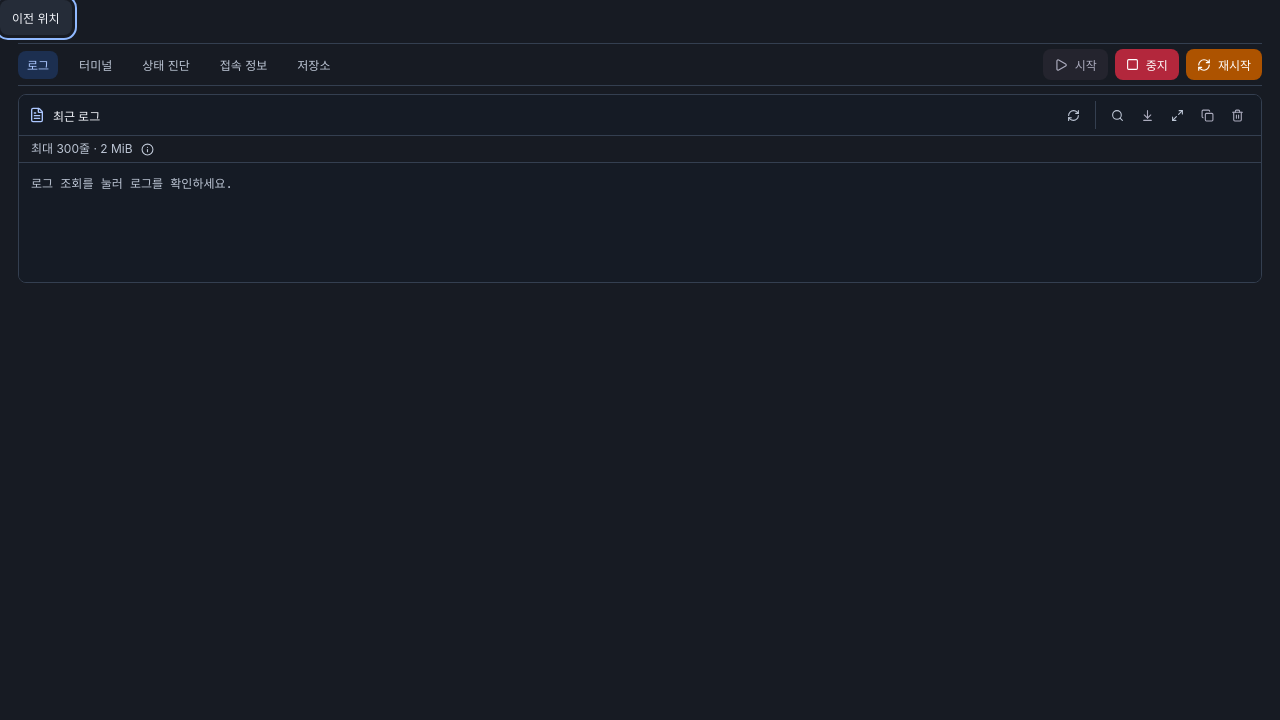
Scenario: confirmation trigger focus › returns to 재시작 after a click that does not focus the button
Step 1. Click the button "재시작" → (1224, 64), box [1186,49,1262,80]
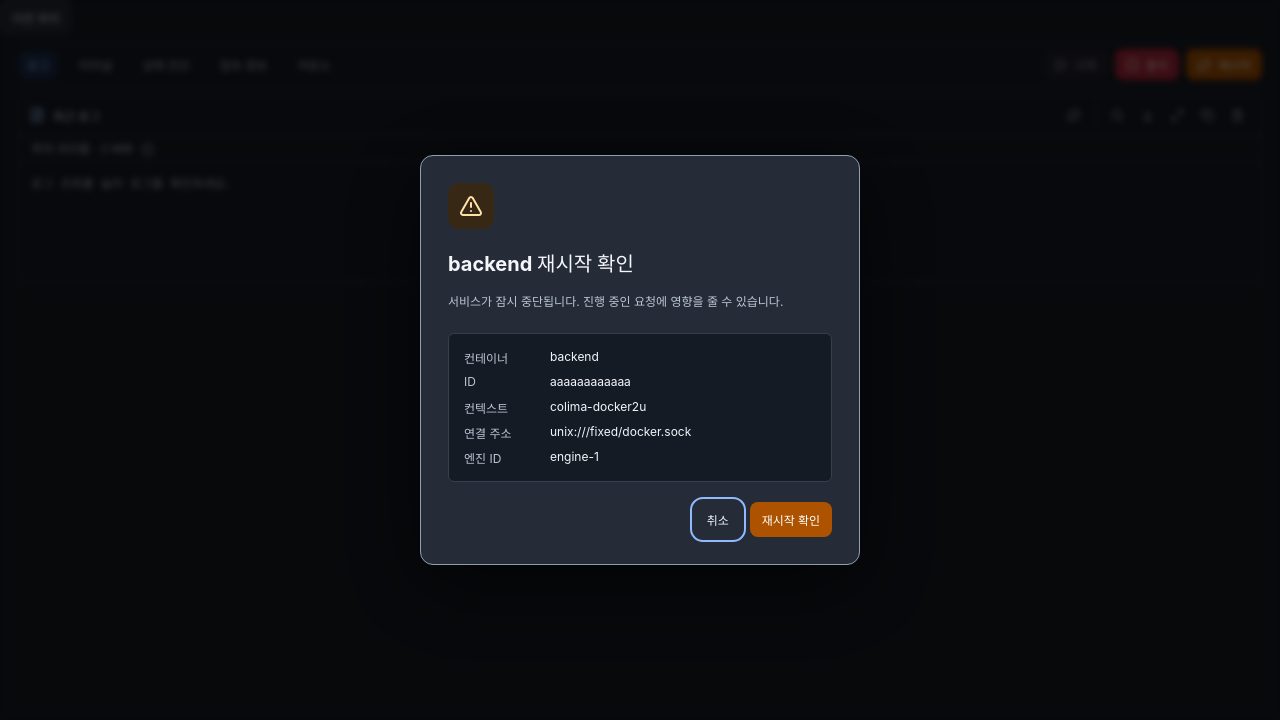
Check: the element with test id "background" has attribute inert, box [0,0,1279,295]
Step 2. Press Escape in the button "취소", box [695,502,741,537]
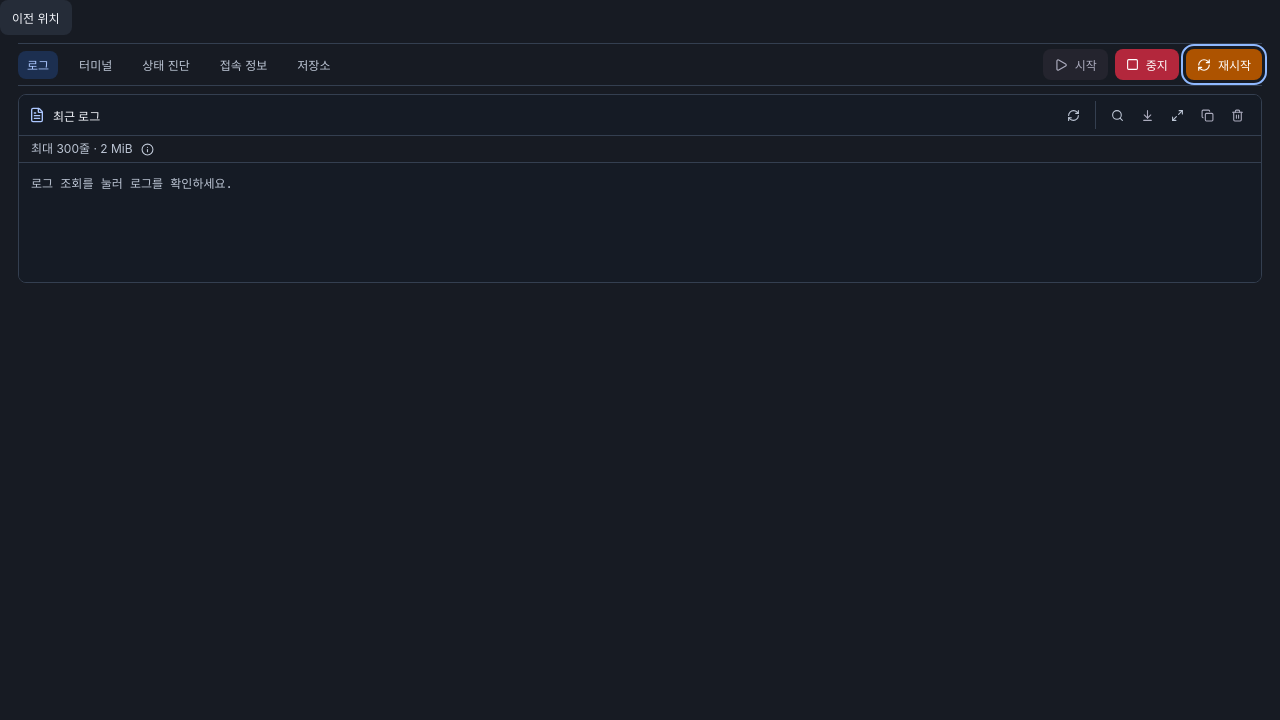
Check: the dialog is gone
